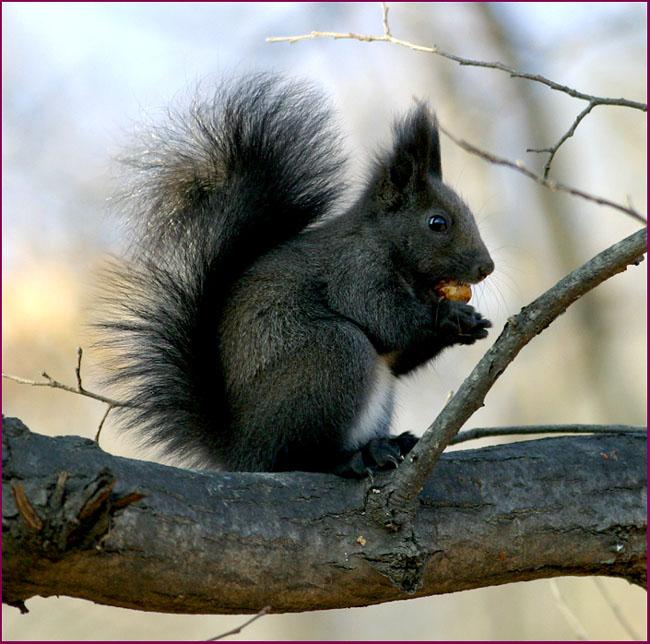chungseolmo: (123, 96, 491, 471)
